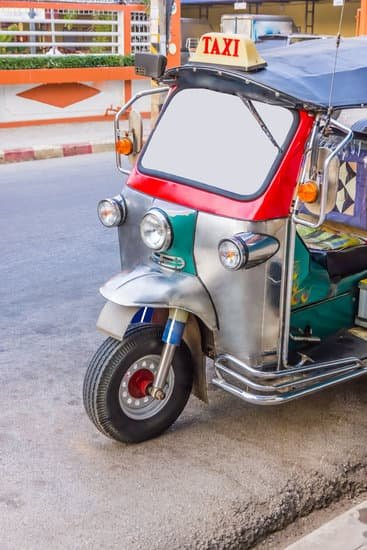threewheel: (81, 33, 367, 444)
